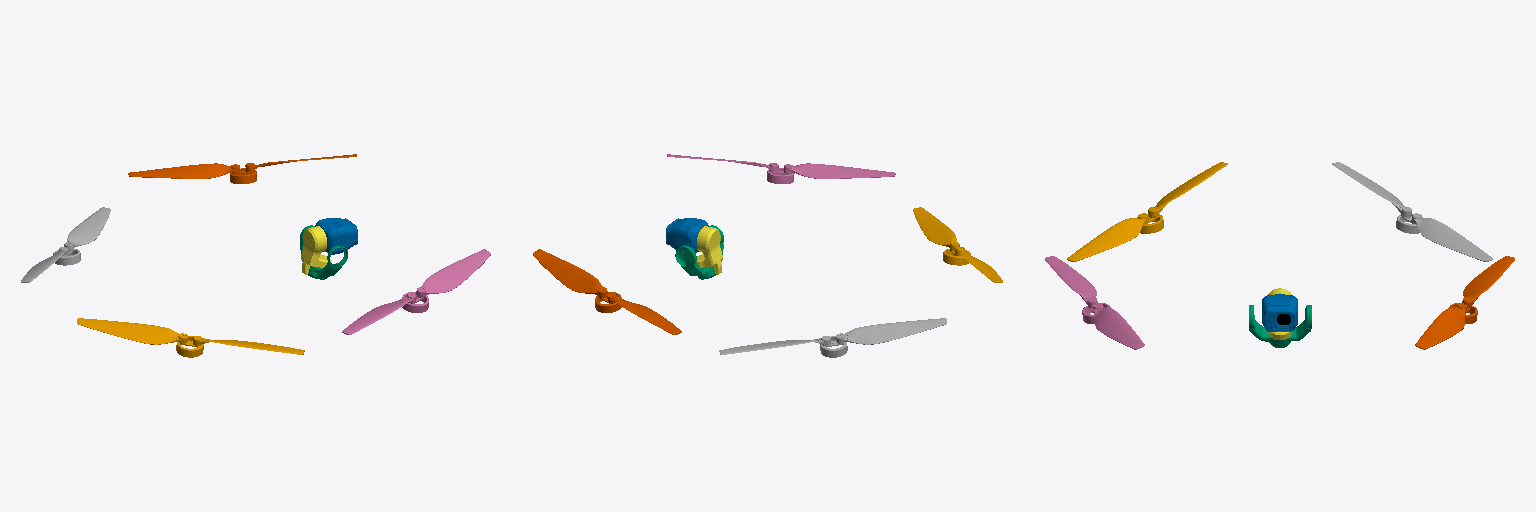
URDF robot description (DJI Mini 3):
<robot name="DJI Mini 3">
  <link name="base_link"/>

  <joint name="body_joint" type="fixed">
    <parent link="base_link"/>
    <child  link="body_link"/>
    <origin xyz="0 0 0" rpy="0 -0.2495821 0"/>
  </joint>

  <link name="body_link">
    <visual>
      <geometry>
        <mesh filename="package://dji_drone_description/meshes/mini3/body.dae" />
      </geometry>
      <origin xyz="0 0 0" rpy="0 0 0"/>
    </visual>
  </link>

  <joint name="pitch_joint" type="revolute">
    <parent link="body_link"/>
    <child  link="gimbal_0_link"/>
    <origin xyz="0.058822 0.000000 -0.013600" rpy="0 0.2495821 0"/>
    <axis xyz="0.0 1.0 0.0"/>
    <limit lower="-2.356194" upper="1.396263" effort="0" velocity="0"/>
  </joint>

  <link name="gimbal_0_link">
    <visual>
      <geometry>
        <mesh filename="package://dji_drone_description/meshes/mini3/gimbal_0.dae" />
      </geometry>
      <origin xyz="0 0 0" rpy="0 0 0"/>
    </visual>
  </link>

  <joint name="yaw_joint" type="revolute">
    <parent link="gimbal_0_link"/>
    <child  link="gimbal_1_link"/>
    <origin xyz="-0.004286 0.000042 -0.012021" rpy="0 0 0"/>
    <axis xyz="0.362817 0.000000 0.931860"/>
    <limit lower="-0.523599" upper="0.523599" effort="0" velocity="0"/>
  </joint>

  <link name="gimbal_1_link">
    <visual>
      <geometry>
        <mesh filename="package://dji_drone_description/meshes/mini3/gimbal_1.dae" />
      </geometry>
      <origin xyz="0 0 0" rpy="0 0 0"/>
    </visual>
  </link>

  <joint name="roll_joint" type="revolute">
    <parent link="gimbal_1_link"/>
    <child  link="camera_link"/>
    <origin xyz="0.000026 0.000012 0.018170" rpy="0 0 0"/>
    <axis xyz="1.0 0.0 0.0"/>
    <limit lower="-2.356194" upper="0.785398" effort="0" velocity="0"/>
  </joint>

  <link name="camera_link">
    <visual>
      <geometry>
        <mesh filename="package://dji_drone_description/meshes/mini3/camera.dae" />
      </geometry>
      <origin xyz="0 0 0" rpy="0 0 0"/>
    </visual>
  </link>

  <joint name="motor_lf_joint" type="continuous">
    <parent link="body_link"/>
    <child  link="motor_lf_link"/>
    <origin xyz="0.064564 0.114086 -0.007539" rpy="0 0 0"/>
    <axis xyz="-0.272644 -0.153602 -0.949774"/>
  </joint>

  <link name="motor_lf_link">
    <visual>
      <geometry>
        <mesh filename="package://dji_drone_description/meshes/mini3/motor_lf.dae" />
      </geometry>
      <origin xyz="0 0 0" rpy="0 0 0"/>
    </visual>
  </link>

  <joint name="motor_rf_joint" type="continuous">
    <parent link="body_link"/>
    <child  link="motor_rf_link"/>
    <origin xyz="0.064564 -0.114086 -0.007538" rpy="0 0 0"/>
    <axis xyz="0.273828 -0.153549 0.949442"/>
  </joint>

  <link name="motor_rf_link">
    <visual>
      <geometry>
        <mesh filename="package://dji_drone_description/meshes/mini3/motor_rf.dae" />
      </geometry>
      <origin xyz="0 0 0" rpy="0 0 0"/>
    </visual>
  </link>

  <joint name="motor_lb_joint" type="continuous">
    <parent link="body_link"/>
    <child  link="motor_lb_link"/>
    <origin xyz="-0.086253 0.081498 0.020741" rpy="0 0 0"/>
    <axis xyz="0.225402 0.129350 0.965641"/>
  </joint>  

  <link name="motor_lb_link">
    <visual>
      <geometry>
        <mesh filename="package://dji_drone_description/meshes/mini3/motor_lb.dae" />
      </geometry>
      <origin xyz="0 0 0" rpy="0 0 0"/>
    </visual>
  </link>

  <joint name="motor_rb_joint" type="continuous">
    <parent link="body_link"/>
    <child  link="motor_rb_link"/>
    <origin xyz="-0.086254 -0.081413 0.020732" rpy="0 0 0"/>
    <axis xyz="-0.240425 0.140674 -0.960420"/>
  </joint>  

    <link name="motor_rb_link">
    <visual>
      <geometry>
        <mesh filename="package://dji_drone_description/meshes/mini3/motor_rb.dae" />
      </geometry>
      <origin xyz="0 0 0" rpy="0 0 0"/>
    </visual>
  </link>
</robot>

--- Render facts (derived) ---
The picture shows the robot from 3 angles, left to right: view 1: azimuth 30°, elevation 25°; view 2: azimuth 150°, elevation 25°; view 3: azimuth 270°, elevation 25°; orthographic projection.
Robot: DJI Mini 3 — 9 links, 8 joints (3 revolute, 4 continuous, 1 fixed); root link base_link; default pose: all joints at 0.
Links seen in each view (by area): view 1: motor_rb_link, motor_rf_link, motor_lf_link, motor_lb_link, camera_link, gimbal_1_link, gimbal_0_link; view 2: motor_lb_link, motor_lf_link, motor_rf_link, motor_rb_link, gimbal_1_link, camera_link, gimbal_0_link; view 3: motor_rb_link, motor_lb_link, motor_lf_link, motor_rf_link, camera_link, gimbal_0_link.
Boxes of the visible links, x1,y1,x2,y2 form: motor_rb_link: (77,318,304,357); motor_rf_link: (342,249,490,334); motor_lf_link: (128,154,356,183); motor_lb_link: (21,207,110,282); camera_link: (315,218,357,254); gimbal_1_link: (301,226,331,274); gimbal_0_link: (300,225,347,279); motor_lb_link: (719,318,946,357); motor_lf_link: (533,249,681,334); motor_rf_link: (667,154,895,183); motor_rb_link: (913,207,1002,282); gimbal_1_link: (696,226,722,274); camera_link: (666,218,708,252); gimbal_0_link: (675,225,723,279); motor_rb_link: (1067,162,1227,261); motor_lb_link: (1332,162,1492,261); motor_lf_link: (1415,256,1514,349); motor_rf_link: (1045,256,1144,349); camera_link: (1262,294,1297,331); gimbal_0_link: (1249,305,1311,347).
Bounding box of the posed robot: 0.2857 × 0.2924 × 0.0375 m (x, y, z).
7 mesh visuals loaded from 8 distinct referenced files (7 Collada DAE); not drawn: 1 (reference not matched to a file when rendering).